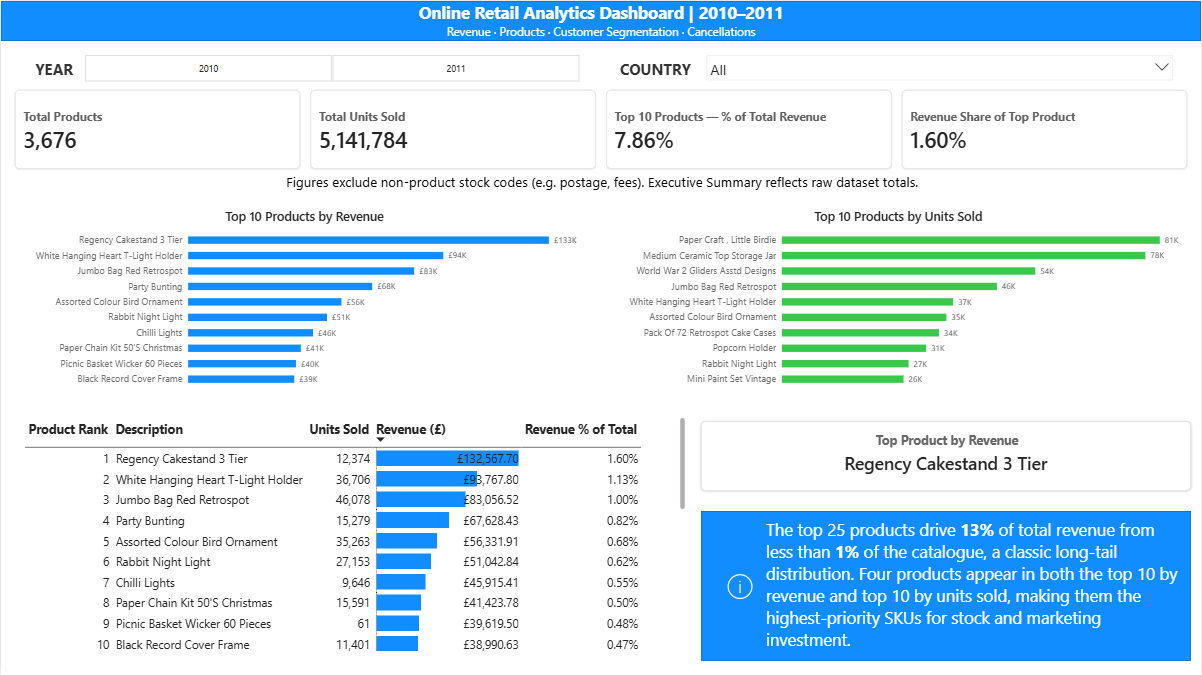

What the dashboard file says about the page in this screenshot:
{"tool":"powerbi","page":{"name":"Product Analysis","canvas":[1920,1080],"ordinal":1},"visuals":[{"type":"shape","box":[0,0,1920,64],"z":0},{"type":"shape","box":[19.6,74.2,1880.2,65.2],"z":0,"group":"g1"},{"type":"shape","box":[1120,816.1,784,239.7],"z":0,"group":"g2"},{"type":"barChart","title":"Top 10 Products by Revenue","fields":{"Category":["OnlineRetail.Description"],"Y":["_Measures.Total Revenue"]},"box":[21.7,318.8,927.4,317],"z":1000},{"type":"textbox","box":[1224.5,816,663.4,238.3],"z":1000,"group":"g2"},{"type":"barChart","title":"Top 10 Products by Units Sold","fields":{"Category":["OnlineRetail.Description"],"Y":["OnlineRetail.Total Quantity Sold"]},"box":[972.7,318.8,927.4,317],"z":2000},{"type":"actionButton","box":[1139.5,875.2,84.8,121.1],"z":2000,"group":"g2"},{"type":"tableEx","fields":{"Values":["OnlineRetail.Product Rank","OnlineRetail.Description","OnlineRetail.Total Quantity Sold","_Measures.Total Revenue","OnlineRetail.Revenue % of Total"]},"box":[21.7,652.1,1088.6,403.9],"z":3000},{"type":"cardVisual","fields":{"Data":["OnlineRetail.Total Products","OnlineRetail.Total Quantity Sold","_Measures.Top 10 Revenue Concentration %","_Measures.Top Product Revenue Share %"]},"box":[20,140,1880,131.7],"z":4000},{"type":"group","id":"g1","title":"Group 1","box":[19.6,74.2,1880.7,67.6],"z":5000},{"type":"group","id":"g2","title":"Insight Box","box":[1120,816,784,240],"z":6000},{"type":"card","title":"Top Product by Revenue","fields":{"Values":["_Measures.Top Product by Revenue"]},"box":[1120,672,784,112],"z":7000},{"type":"textbox","box":[59.8,0,1800.5,63.4],"z":8000},{"type":"slicer","fields":{"Values":["OnlineRetail.Year"]},"box":[109.7,81.4,838,52],"z":8000,"group":"g1"},{"type":"slicer","title":"Country:","fields":{"Values":["OnlineRetail.Country"]},"box":[1123.7,81.4,756,62],"z":9000,"group":"g1"},{"type":"textbox","box":[22,272,1880,46],"z":9000},{"type":"textbox","box":[51.7,91.4,70,40],"z":11000,"group":"g1"},{"type":"textbox","box":[983.7,91.4,126,42],"z":12000,"group":"g1"}]}

Visuals, with their boxes in screenshot pixels (x1, y1, x2, y2), scaled from the page's 1920x1080 canvas onto the 1202x675 screenshot:
shape: (left=0, top=0, right=1201, bottom=40)
shape: (left=12, top=46, right=1189, bottom=87)
shape: (left=701, top=510, right=1192, bottom=660)
"Top 10 Products by Revenue" barChart: (left=14, top=199, right=594, bottom=397)
textbox: (left=767, top=510, right=1182, bottom=659)
"Top 10 Products by Units Sold" barChart: (left=609, top=199, right=1190, bottom=397)
actionButton: (left=713, top=547, right=766, bottom=623)
tableEx - OnlineRetail.Product Rank x OnlineRetail.Description: (left=14, top=408, right=695, bottom=660)
cardVisual - OnlineRetail.Total Products x OnlineRetail.Total Quantity Sold: (left=13, top=88, right=1189, bottom=170)
"Group 1" group: (left=12, top=46, right=1190, bottom=89)
"Insight Box" group: (left=701, top=510, right=1192, bottom=660)
"Top Product by Revenue" card: (left=701, top=420, right=1192, bottom=490)
textbox: (left=37, top=0, right=1165, bottom=40)
slicer - OnlineRetail.Year: (left=69, top=51, right=593, bottom=83)
"Country:" slicer: (left=703, top=51, right=1177, bottom=90)
textbox: (left=14, top=170, right=1191, bottom=199)
textbox: (left=32, top=57, right=76, bottom=82)
textbox: (left=616, top=57, right=695, bottom=83)
